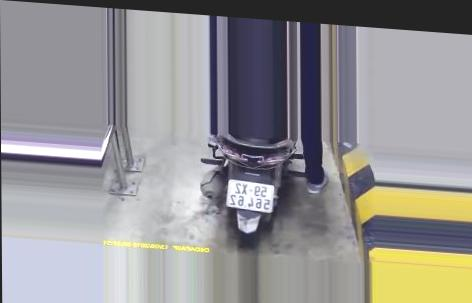License_Plate: (222, 177, 278, 215)
